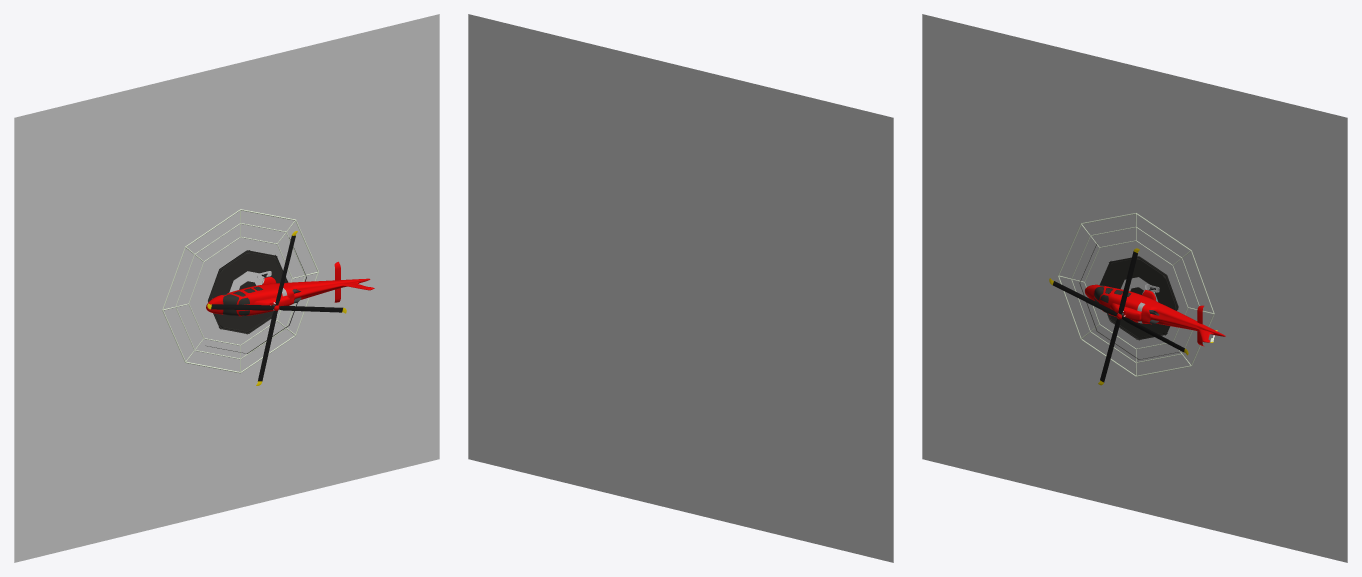
File: helicopter_vip_pro_no1.gltf
3 renders of one model, left to right at view 1: azimuth 30°, elevation 25°; view 2: azimuth 150°, elevation 25°; view 3: azimuth 330°, elevation 25°, orthographic.
Visible parts, largest first — view 1: Plane, Cylinder.005, Cube, Cylinder.006, Cylinder.003; view 2: Plane; view 3: Plane, Cylinder.005, Cube, Cylinder.006, Cylinder.003.
Boxes of the visible parts, x1,y1,x2,y2 form: Plane: (14,14,439,562); Cylinder.005: (205,237,306,353); Cube: (206,278,374,316); Cylinder.006: (162,209,318,373); Cylinder.003: (207,231,346,385); Plane: (468,14,893,562); Plane: (922,14,1347,562); Cylinder.005: (1079,244,1180,359); Cube: (1085,284,1225,342); Cylinder.006: (1058,213,1214,376); Cylinder.003: (1049,248,1188,385).
Size of the model in its own units: 26.07 by 26.07 by 3.96.
